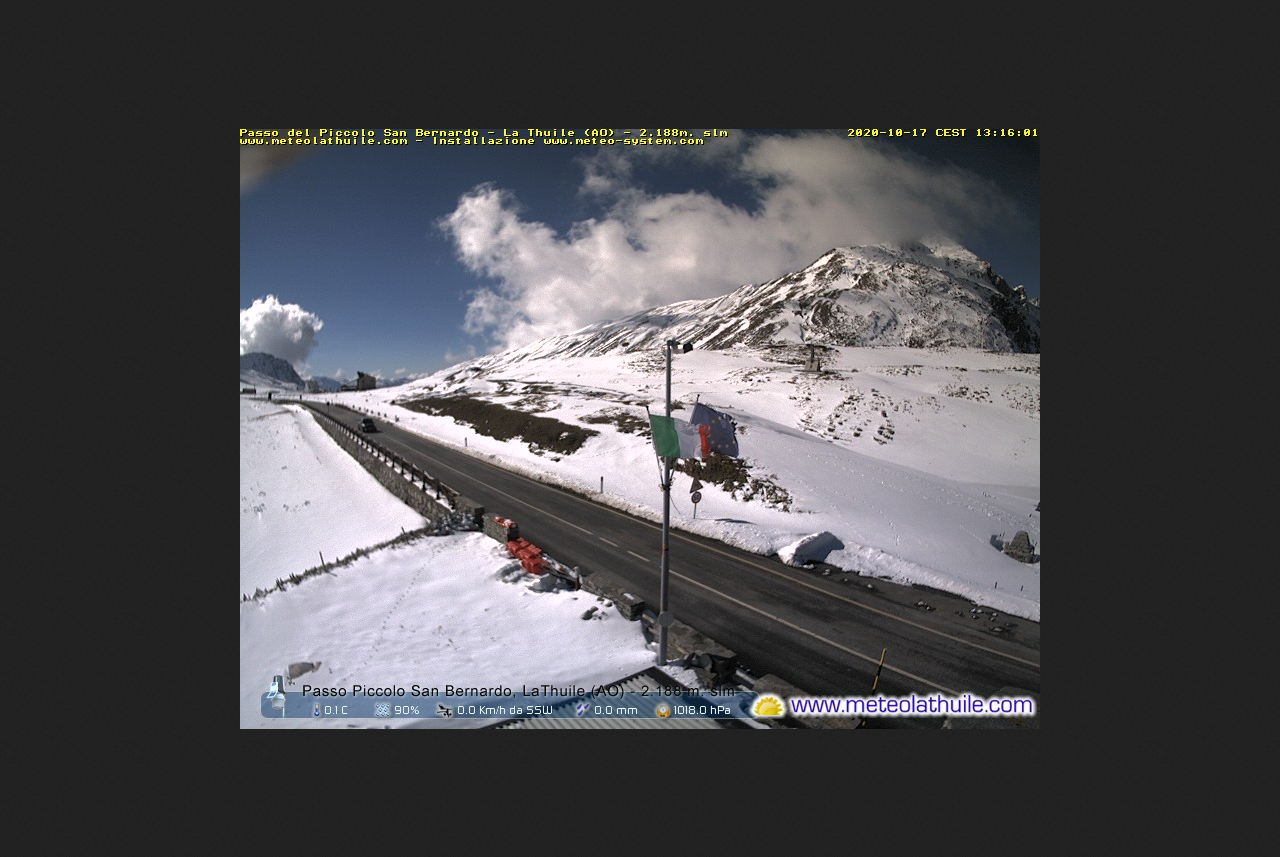yes: (644, 416, 717, 468), (688, 402, 740, 458)
